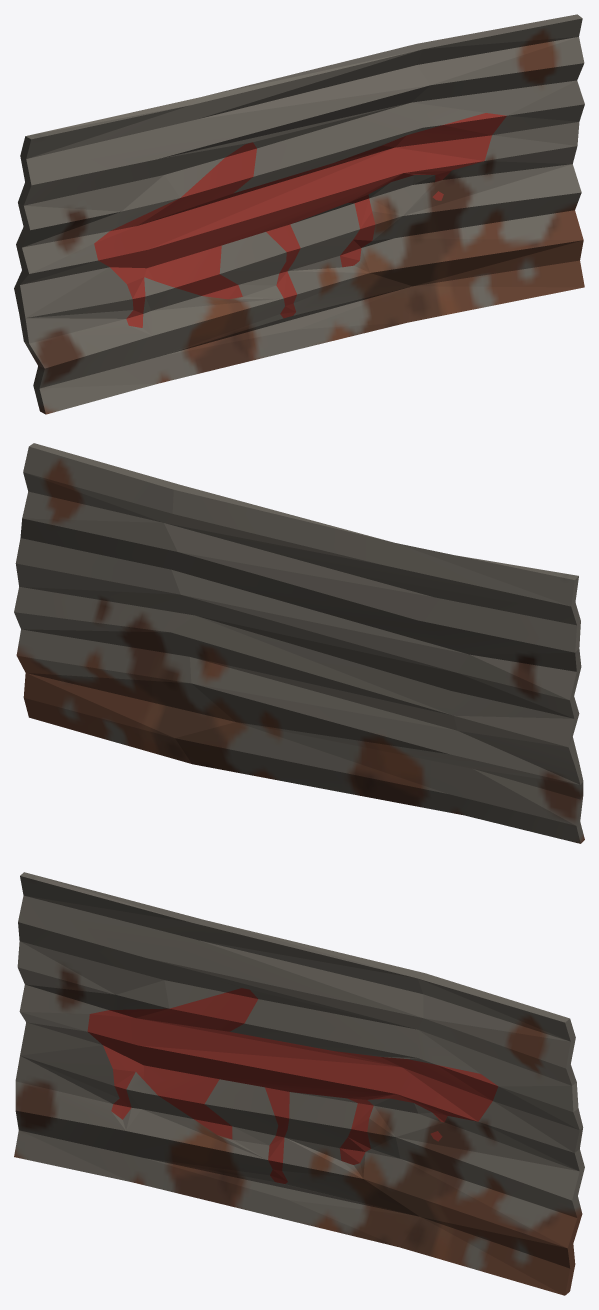
The model's file is SM_Prop_Sign_Directional_Arrow_02.obj.
3 renders of one model, top to bottom at view 1: azimuth 30°, elevation 25°; view 2: azimuth 150°, elevation 25°; view 3: azimuth 330°, elevation 25°, orthographic.
Parts seen in each view (by area): view 1: SM_Prop_Sign_Directional_Arrow_02_0; view 2: SM_Prop_Sign_Directional_Arrow_02_0; view 3: SM_Prop_Sign_Directional_Arrow_02_0.
Part boxes in pixels (bbox=[...]): SM_Prop_Sign_Directional_Arrow_02_0: bbox=[14, 14, 584, 414]; SM_Prop_Sign_Directional_Arrow_02_0: bbox=[14, 443, 584, 843]; SM_Prop_Sign_Directional_Arrow_02_0: bbox=[14, 872, 584, 1295].
Size of the model in its own units: 2.04 by 0.9669 by 0.1532.
1 material, 1 textured.
